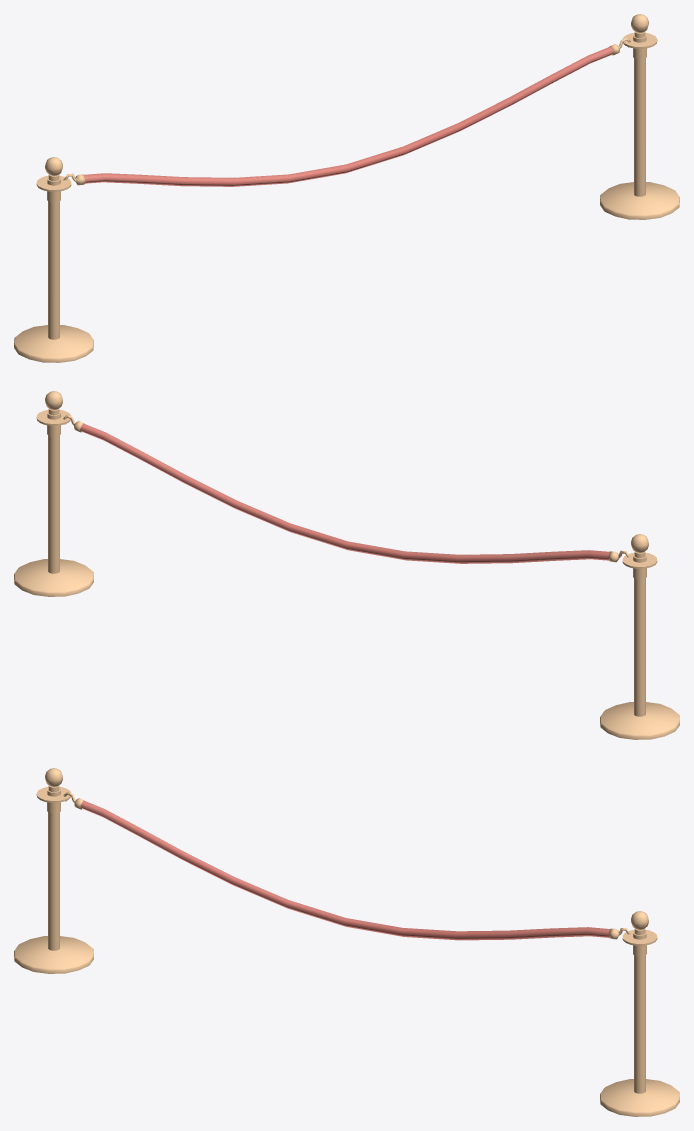
File: CarpetRailing.glb
The picture shows the model from 3 angles, top to bottom: view 1: azimuth 30°, elevation 25°; view 2: azimuth 150°, elevation 25°; view 3: azimuth 330°, elevation 25°; orthographic projection.
Parts seen in each view (by area): view 1: BezierCurve.002, RallingStick01, RallingStick02; view 2: BezierCurve.002, RallingStick01, RallingStick02; view 3: BezierCurve.002, RallingStick02, RallingStick01.
Boxes of the visible parts, left/top/right/bottom form: BezierCurve.002: left=84, top=46, right=613, bottom=186; RallingStick01: left=14, top=157, right=93, bottom=362; RallingStick02: left=600, top=14, right=679, bottom=219; BezierCurve.002: left=80, top=423, right=609, bottom=563; RallingStick01: left=600, top=534, right=679, bottom=739; RallingStick02: left=14, top=391, right=93, bottom=596; BezierCurve.002: left=80, top=800, right=610, bottom=940; RallingStick02: left=600, top=911, right=679, bottom=1116; RallingStick01: left=14, top=768, right=93, bottom=973.
Size of what is drawn, in the model's own units: 4.63 by 1.27 by 0.5.
Materials: 2 (1 with a texture image).
